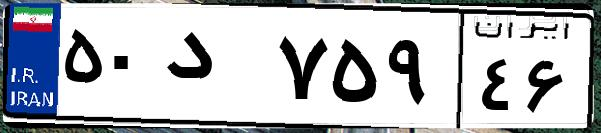0: (110, 28, 158, 98)
4: (475, 38, 525, 113)
5: (330, 28, 385, 110), (57, 26, 110, 100)
6: (525, 38, 570, 115)
7: (270, 28, 330, 110)
9: (385, 28, 445, 110)
د: (158, 20, 270, 120)
